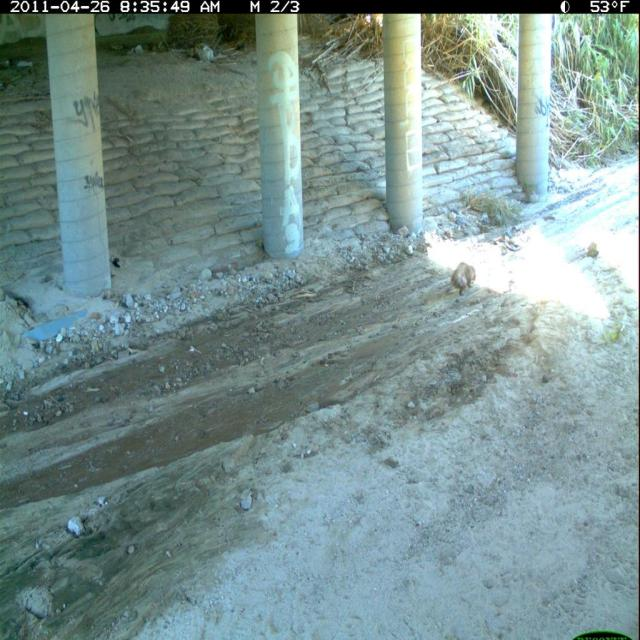opossum: (437, 259, 481, 302)
